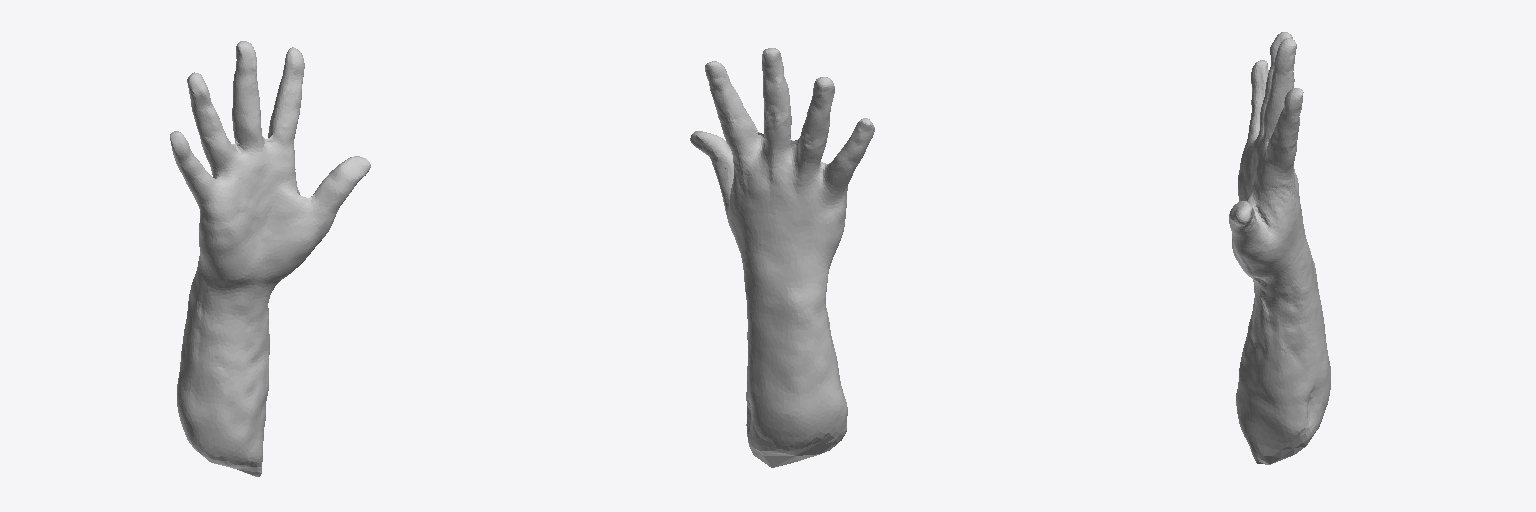
The model's file is measurable_x_auto.obj.
The picture shows the model from 3 angles: view 1: azimuth 30°, elevation 25°; view 2: azimuth 150°, elevation 25°; view 3: azimuth 270°, elevation 25°; orthographic projection.
Bounding box in the file's own units: 152 × 325 × 70.92.